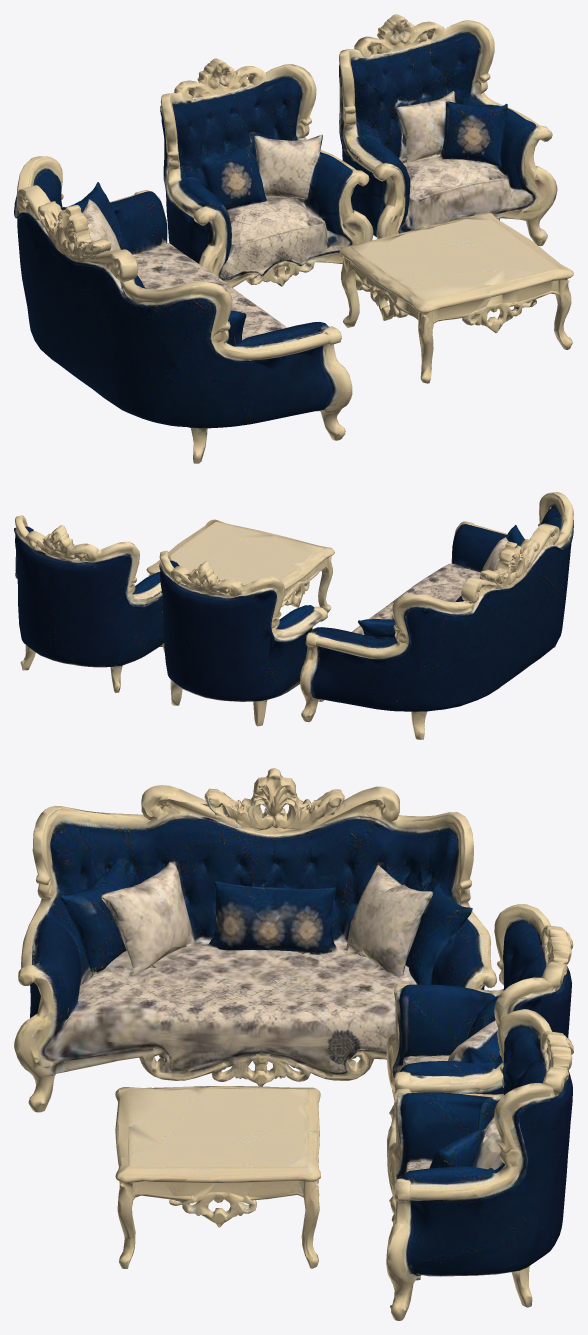
Rendered from royal_blue_gold_luxury_sofa_pair.glb.
The picture shows the model from 3 angles, top to bottom: view 1: azimuth 30°, elevation 25°; view 2: azimuth 150°, elevation 25°; view 3: azimuth 270°, elevation 25°; orthographic projection. The views are drawn at different scales.
Parts seen in each view (by area): view 1: mesh_node; view 2: mesh_node; view 3: mesh_node.
Part boxes in pixels (x1,y1,x2,y2): mesh_node: (14,14,573,463); mesh_node: (14,492,573,739); mesh_node: (14,768,573,1320).
Bounding box in the file's own units: 2.9 × 1.04 × 2.16.
1 material, 1 textured.
